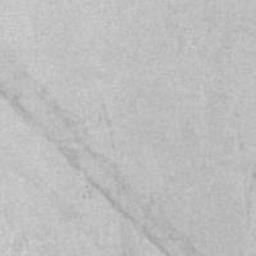Water spot: (0, 37, 209, 256)
